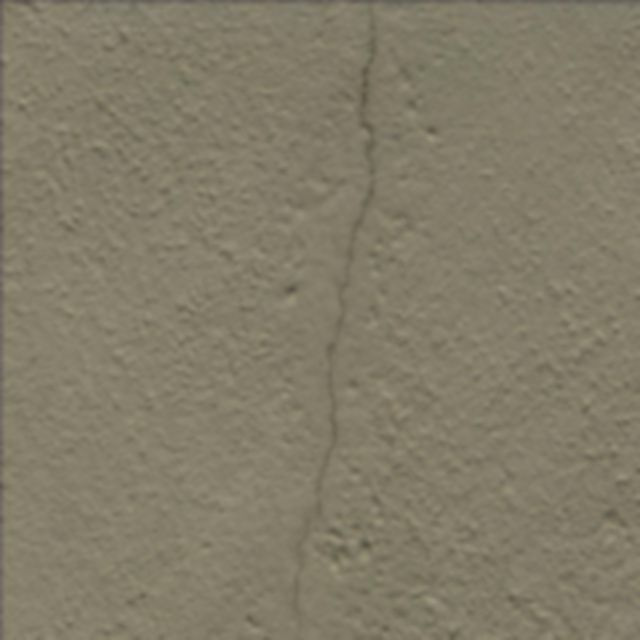SurfaceCrack: (254, 0, 412, 639)
